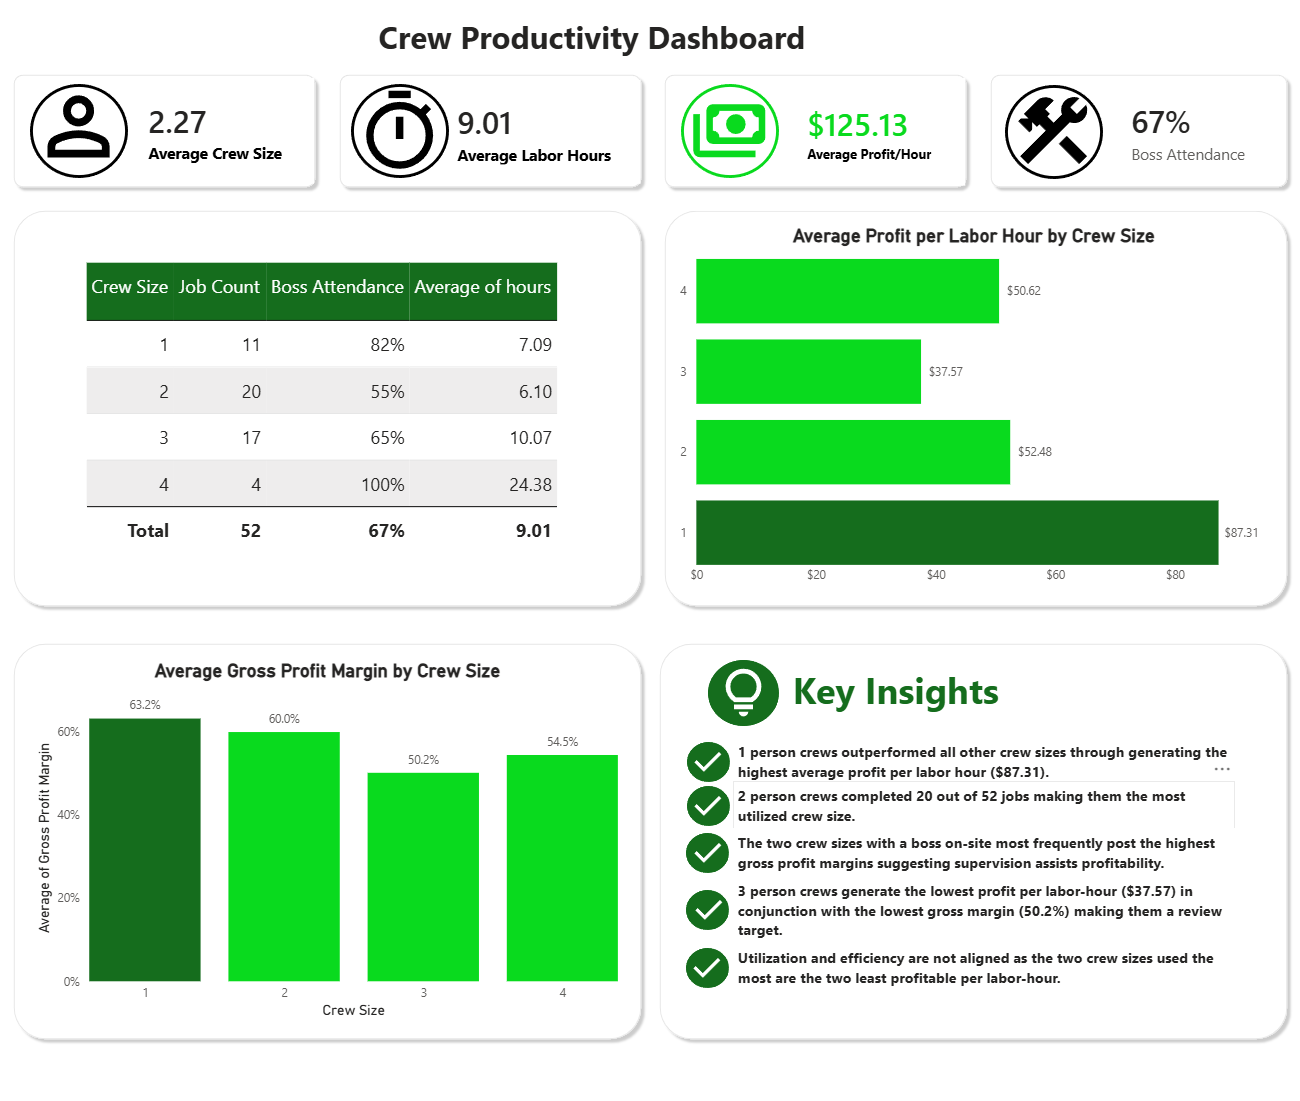

What the dashboard file says about the page in this screenshot:
{"tool":"powerbi","page":{"name":"Page 2","canvas":[1350,1200],"ordinal":1},"visuals":[{"type":"shape","box":[11.3,215.5,660.8,421.6],"z":0},{"type":"shape","box":[682.5,215.5,655.7,421.6],"z":1000},{"type":"shape","box":[347.4,75.3,324.7,129.9],"z":2000},{"type":"shape","box":[682.5,75.3,324.7,129.9],"z":3000},{"type":"shape","box":[11.3,75.3,324.7,129.9],"z":4000},{"type":"shape","box":[1018.6,75.3,319.6,129.9],"z":5000},{"type":"textbox","box":[319.3,15.1,589.6,55.6],"z":6000},{"type":"cardVisual","fields":{"Data":["public jobs.Total Profit Rounded"]},"box":[495.9,91.8,168,95.9],"z":7000},{"type":"shape","box":[706.2,91.8,101,96.9],"z":8000},{"type":"shape","box":[11.3,661.9,660.8,421.6],"z":9000},{"type":"shape","box":[677.3,661.9,660.8,421.6],"z":10000},{"type":"cardVisual","fields":{"Data":["public jobs.Average Crew Size"]},"box":[127.8,85.6,200,109.3],"z":11000},{"type":"shape","box":[35.1,91.8,101,96.9],"z":12000},{"type":"image","box":[37.1,82.5,95.9,105.2],"z":13000},{"type":"cardVisual","fields":{"Data":["public jobs.Average Labor Hours"]},"box":[446.4,87.6,217.5,107.2],"z":14000},{"type":"shape","box":[366,91.8,101,96.9],"z":15000},{"type":"image","box":[370.1,94.8,91.8,91.8],"z":16000},{"type":"cardVisual","fields":{"Data":["public jobs.Avg Profit per Labor Hour"]},"box":[807.2,85.6,191.8,111.3],"z":17000},{"type":"image","box":[715.5,96.9,81.4,85.6],"z":18000},{"type":"cardVisual","fields":{"Data":["public jobs.Owner Attendance %"]},"box":[1141.2,87.6,182.5,106.2],"z":19000},{"type":"shape","box":[1040.2,92.8,101,96.9],"z":20000},{"type":"image","box":[1044.3,92.8,91.8,93.8],"z":21000},{"type":"clusteredBarChart","title":"Average Profit per Labor Hour by Crew Size","fields":{"Y":["public jobs.Profit per Labor Hour by Crew Size"],"Category":["public jobs.workers"]},"box":[700,237.1,616.5,379.4],"z":22000},{"type":"tableEx","fields":{"Values":["public jobs.Crew Size","public jobs.Job Count","public jobs.Boss Attendance","Avg(public jobs.hours)"]},"box":[82.5,266,506.2,320.6],"z":23000},{"type":"clusteredColumnChart","title":"Average Gross Profit Margin by Crew Size","fields":{"Category":["public jobs.Crew Size"],"Y":["Avg(public jobs.Gross Profit Margin)"]},"box":[37.1,685.6,609.3,374.2],"z":24000},{"type":"shape","box":[734,685.6,73.2,68],"z":25000},{"type":"shape","box":[712.4,770.1,44.3,41.2],"z":26000},{"type":"textbox","box":[816.5,685.6,428.9,68],"z":27000},{"type":"textbox","box":[759.8,764.9,517.5,50.5],"z":28000},{"type":"shape","box":[712.4,815.5,44.3,41.2],"z":29000},{"type":"shape","box":[711.3,863.9,44.3,41.2],"z":30000},{"type":"shape","box":[711.3,982.5,44.3,41.2],"z":31000},{"type":"shape","box":[711.3,922.7,44.3,41.2],"z":32000},{"type":"image","box":[737.1,689.7,67,58.8],"z":33000},{"type":"image","box":[712.4,770.1,43.3,41.2],"z":34000},{"type":"image","box":[712.4,815.5,43.3,41.2],"z":35000},{"type":"image","box":[712.4,863.9,43.3,41.2],"z":36000},{"type":"image","box":[711.3,982.5,43.3,41.2],"z":37000},{"type":"image","box":[713.4,922.7,43.3,41.2],"z":38000},{"type":"textbox","box":[759.8,810.3,517.5,50.5],"z":39000},{"type":"textbox","box":[759.8,858.8,517.5,50.5],"z":40000},{"type":"textbox","box":[759.8,908.2,517.5,74.2],"z":41000},{"type":"textbox","box":[759.8,977.3,517.5,50.5],"z":42000}]}

Visuals, with their boxes on the page's 1350x1200 design canvas (x1, y1, x2, y2). These are canvas units, not pixel positions in the 1300x1101 screenshot, which may show the page scaled, cropped or inside an application window:
shape: bbox=[11, 216, 672, 637]
shape: bbox=[682, 216, 1338, 637]
shape: bbox=[347, 75, 672, 205]
shape: bbox=[682, 75, 1007, 205]
shape: bbox=[11, 75, 336, 205]
shape: bbox=[1019, 75, 1338, 205]
textbox: bbox=[319, 15, 909, 71]
cardVisual - public jobs.Total Profit Rounded: bbox=[496, 92, 664, 188]
shape: bbox=[706, 92, 807, 189]
shape: bbox=[11, 662, 672, 1084]
shape: bbox=[677, 662, 1338, 1084]
cardVisual - public jobs.Average Crew Size: bbox=[128, 86, 328, 195]
shape: bbox=[35, 92, 136, 189]
image: bbox=[37, 82, 133, 188]
cardVisual - public jobs.Average Labor Hours: bbox=[446, 88, 664, 195]
shape: bbox=[366, 92, 467, 189]
image: bbox=[370, 95, 462, 187]
cardVisual - public jobs.Avg Profit per Labor Hour: bbox=[807, 86, 999, 197]
image: bbox=[716, 97, 797, 182]
cardVisual - public jobs.Owner Attendance %: bbox=[1141, 88, 1324, 194]
shape: bbox=[1040, 93, 1141, 190]
image: bbox=[1044, 93, 1136, 187]
"Average Profit per Labor Hour by Crew Size" clusteredBarChart: bbox=[700, 237, 1316, 616]
tableEx - public jobs.Crew Size x public jobs.Job Count: bbox=[82, 266, 589, 587]
"Average Gross Profit Margin by Crew Size" clusteredColumnChart: bbox=[37, 686, 646, 1060]
shape: bbox=[734, 686, 807, 754]
shape: bbox=[712, 770, 757, 811]
textbox: bbox=[816, 686, 1245, 754]
textbox: bbox=[760, 765, 1277, 815]
shape: bbox=[712, 816, 757, 857]
shape: bbox=[711, 864, 756, 905]
shape: bbox=[711, 982, 756, 1024]
shape: bbox=[711, 923, 756, 964]
image: bbox=[737, 690, 804, 748]
image: bbox=[712, 770, 756, 811]
image: bbox=[712, 816, 756, 857]
image: bbox=[712, 864, 756, 905]
image: bbox=[711, 982, 755, 1024]
image: bbox=[713, 923, 757, 964]
textbox: bbox=[760, 810, 1277, 861]
textbox: bbox=[760, 859, 1277, 909]
textbox: bbox=[760, 908, 1277, 982]
textbox: bbox=[760, 977, 1277, 1028]
